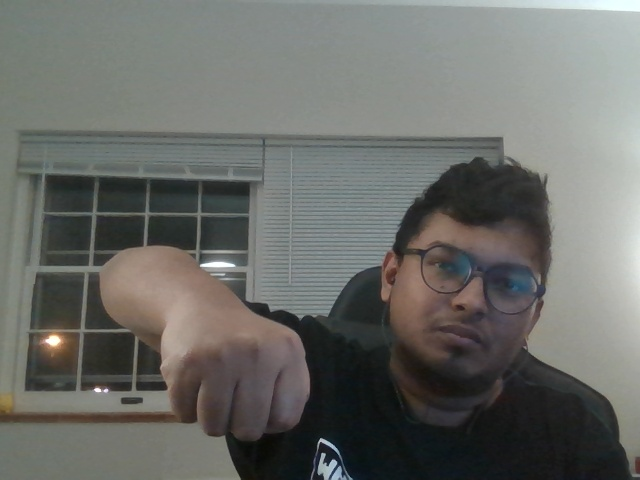yes: (117, 299, 336, 443)
